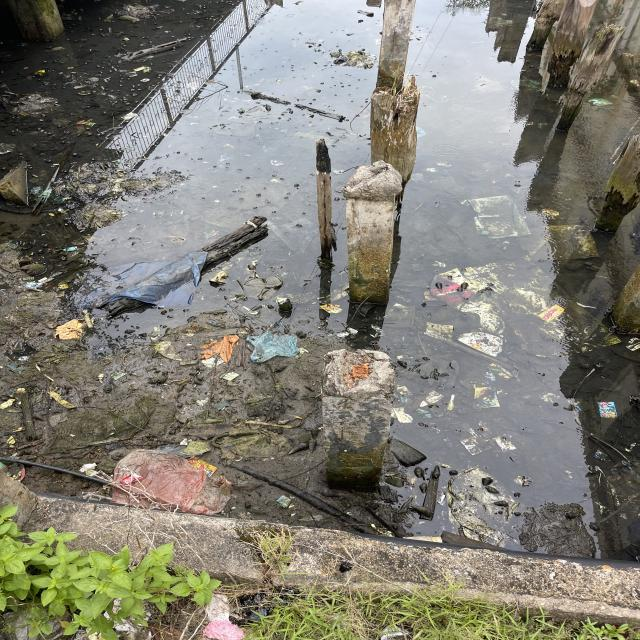Bungkus Makanan: (537, 305, 566, 322)
Kantong Plastik: (83, 253, 209, 309), (246, 331, 301, 363), (240, 275, 285, 301)
